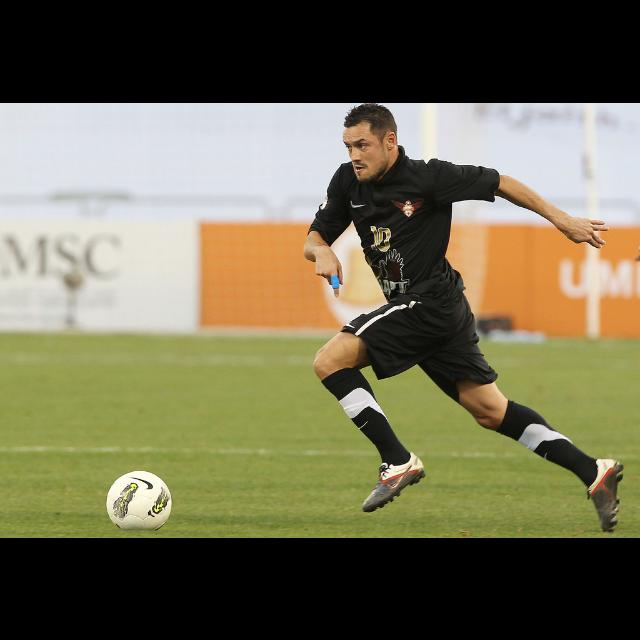Football: (105, 468, 171, 530)
